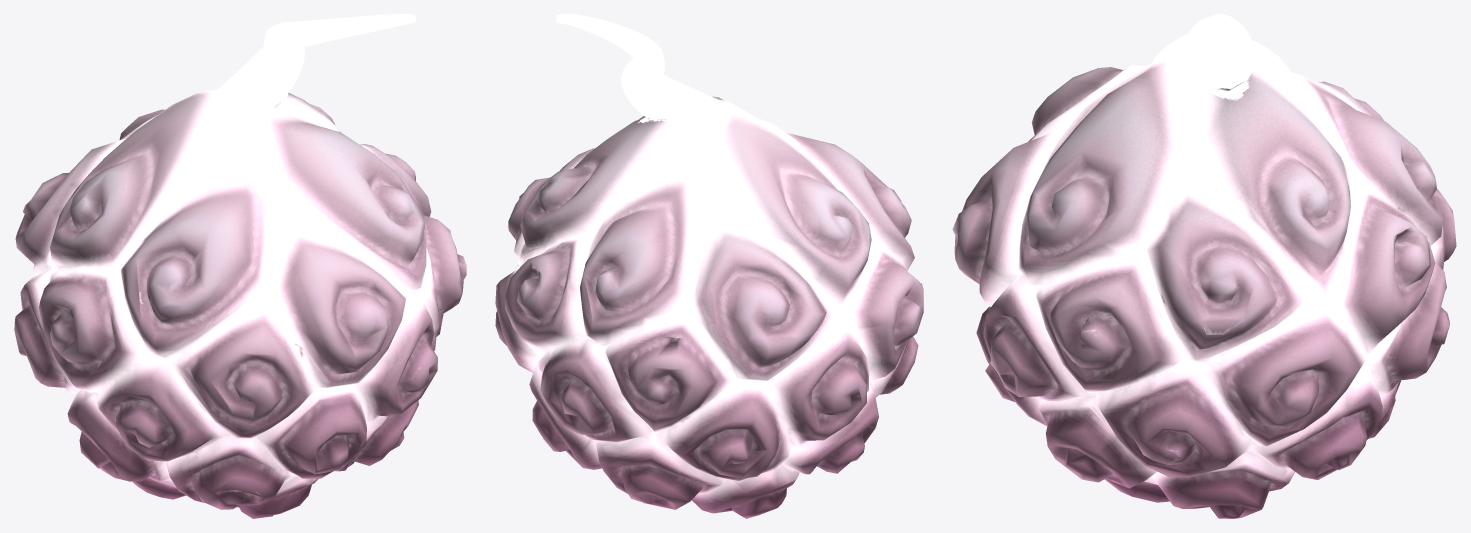
Rendered from soul.fbx.
The picture shows the model from 3 angles, left to right: view 1: azimuth 30°, elevation 25°; view 2: azimuth 150°, elevation 25°; view 3: azimuth 270°, elevation 25°; orthographic projection. The views are drawn at different scales.
Parts seen in each view (by area): view 1: SoulFruit; view 2: SoulFruit; view 3: SoulFruit.
Boxes of the visible parts, x1,y1,x2,y2 form: SoulFruit: [14, 14, 466, 518]; SoulFruit: [495, 14, 923, 518]; SoulFruit: [952, 14, 1456, 518].
Size of the model in its own units: 2.03 by 2.28 by 2.04.
